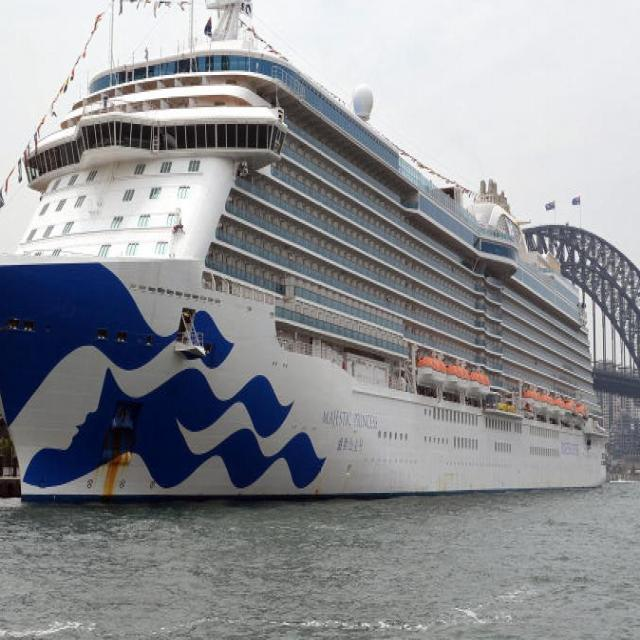cruises: (1, 1, 610, 520)
